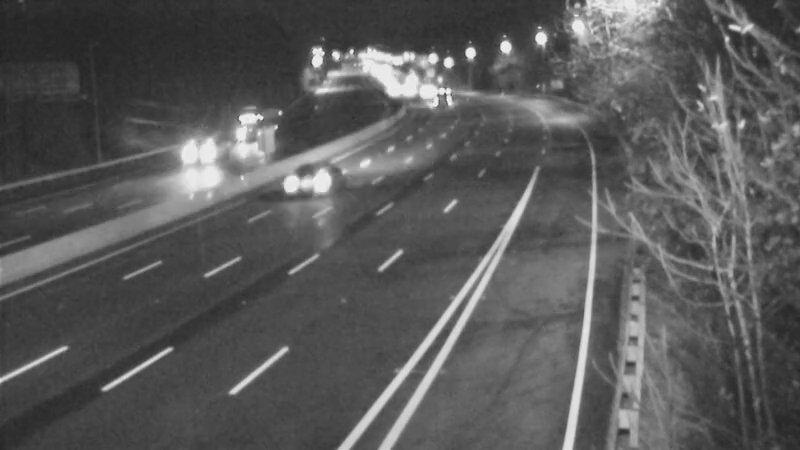vehicle: (268, 145, 348, 225), (162, 115, 242, 195), (413, 75, 463, 125), (230, 94, 280, 144)
